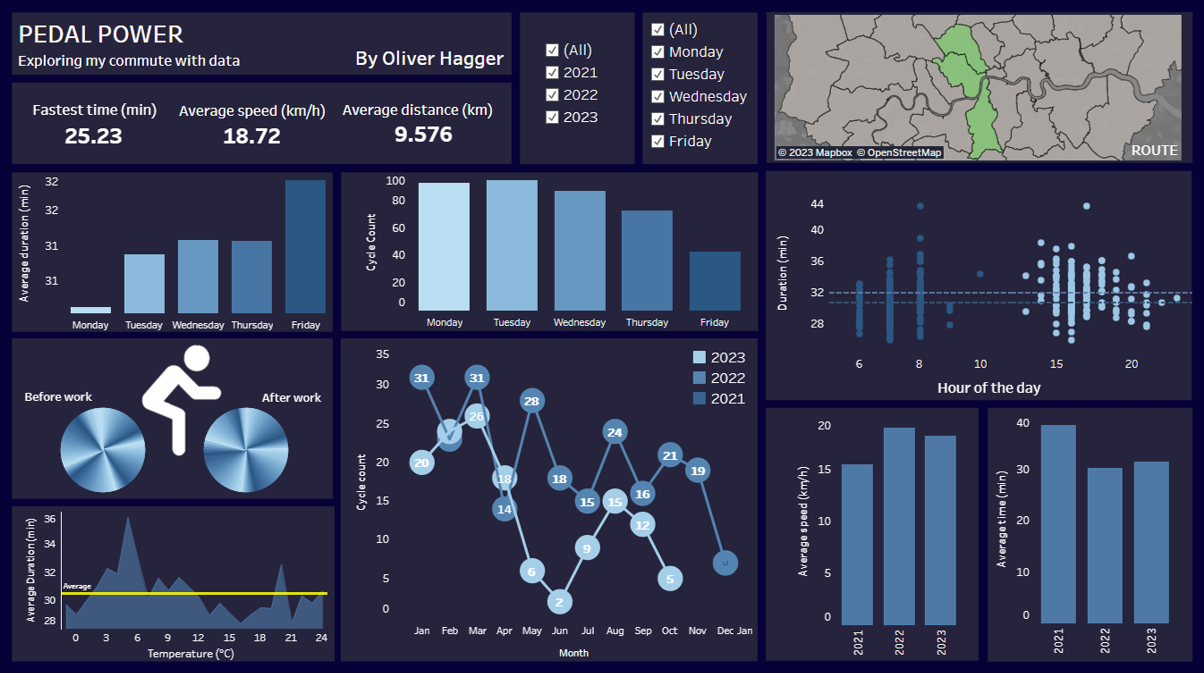

What the dashboard file says about the page in this screenshot:
{"tool":"tableau","page":{"name":"Dashboard 1","canvas":[1450,850],"ordinal":0},"visuals":[{"type":"text","box":[23,8,992,65]},{"type":"text","box":[1225,9,187,75]},{"type":"worksheet","title":"Sheet 3 (2)","mark":"Automatic","box":[1177,24,40,40]},{"type":"text","box":[1225,63,221,75]},{"type":"worksheet","title":"Sheet 4 (2)","mark":"Automatic","box":[1177,83,40,40]},{"type":"image","param":"Image/Olympic_rings_without_rims.svg","box":[44,98,172,90]},{"type":"text","box":[768,113,100,30]},{"type":"text","box":[335,219,140,30]},{"type":"text","box":[23,231,305,152]},{"type":"text","box":[530,338,140,30]},{"type":"text","box":[21,361,305,104]},{"type":"text","box":[1089,371,140,30]},{"type":"text","box":[1146,480,140,30]},{"type":"text","box":[104,497,40,28]},{"type":"text","box":[378,567,305,104]},{"type":"text","box":[652,598,140,30]},{"type":"text","box":[104,602,40,40]},{"type":"text","box":[1082,636,127,72]},{"type":"text","box":[190,639,40,40]},{"type":"text","box":[709,676,108,58]},{"type":"text","box":[278,683,40,40]},{"type":"worksheet","title":"Sheet 4","mark":"Automatic","box":[659,686,40,40]},{"type":"text","box":[190,703,40,40]},{"type":"worksheet","title":"Sheet 8","mark":"Automatic","rows":["Country (Host cities for Summer and Wint) (copy)_28009575111"],"cols":["Year"],"box":[933,711,362,126]},{"type":"text","box":[104,727,40,40]},{"type":"text","box":[709,727,108,58]},{"type":"text","box":[366,732,40,40]},{"type":"text","box":[278,737,40,40]},{"type":"worksheet","title":"Sheet 3","mark":"Automatic","box":[659,738,40,40]},{"type":"text","box":[453,755,40,40]},{"type":"text","box":[190,765,40,40]},{"type":"text","box":[539,765,40,40]},{"type":"text","box":[278,775,40,40]}]}

Visuals, with their boxes on the page's 1450x850 design canvas (x1, y1, x2, y2). These are canvas units, not pixel positions in the 1204x673 screenshot, which may show the page scaled, cropped or inside an application window:
text: BBox(23, 8, 1015, 73)
text: BBox(1225, 9, 1412, 84)
"Sheet 3 (2)" worksheet: BBox(1177, 24, 1217, 64)
text: BBox(1225, 63, 1446, 138)
"Sheet 4 (2)" worksheet: BBox(1177, 83, 1217, 123)
image: BBox(44, 98, 216, 188)
text: BBox(768, 113, 868, 143)
text: BBox(335, 219, 475, 249)
text: BBox(23, 231, 328, 383)
text: BBox(530, 338, 670, 368)
text: BBox(21, 361, 326, 465)
text: BBox(1089, 371, 1229, 401)
text: BBox(1146, 480, 1286, 510)
text: BBox(104, 497, 144, 525)
text: BBox(378, 567, 683, 671)
text: BBox(652, 598, 792, 628)
text: BBox(104, 602, 144, 642)
text: BBox(1082, 636, 1209, 708)
text: BBox(190, 639, 230, 679)
text: BBox(709, 676, 817, 734)
text: BBox(278, 683, 318, 723)
"Sheet 4" worksheet: BBox(659, 686, 699, 726)
text: BBox(190, 703, 230, 743)
"Sheet 8" worksheet: BBox(933, 711, 1295, 837)
text: BBox(104, 727, 144, 767)
text: BBox(709, 727, 817, 785)
text: BBox(366, 732, 406, 772)
text: BBox(278, 737, 318, 777)
"Sheet 3" worksheet: BBox(659, 738, 699, 778)
text: BBox(453, 755, 493, 795)
text: BBox(190, 765, 230, 805)
text: BBox(539, 765, 579, 805)
text: BBox(278, 775, 318, 815)
